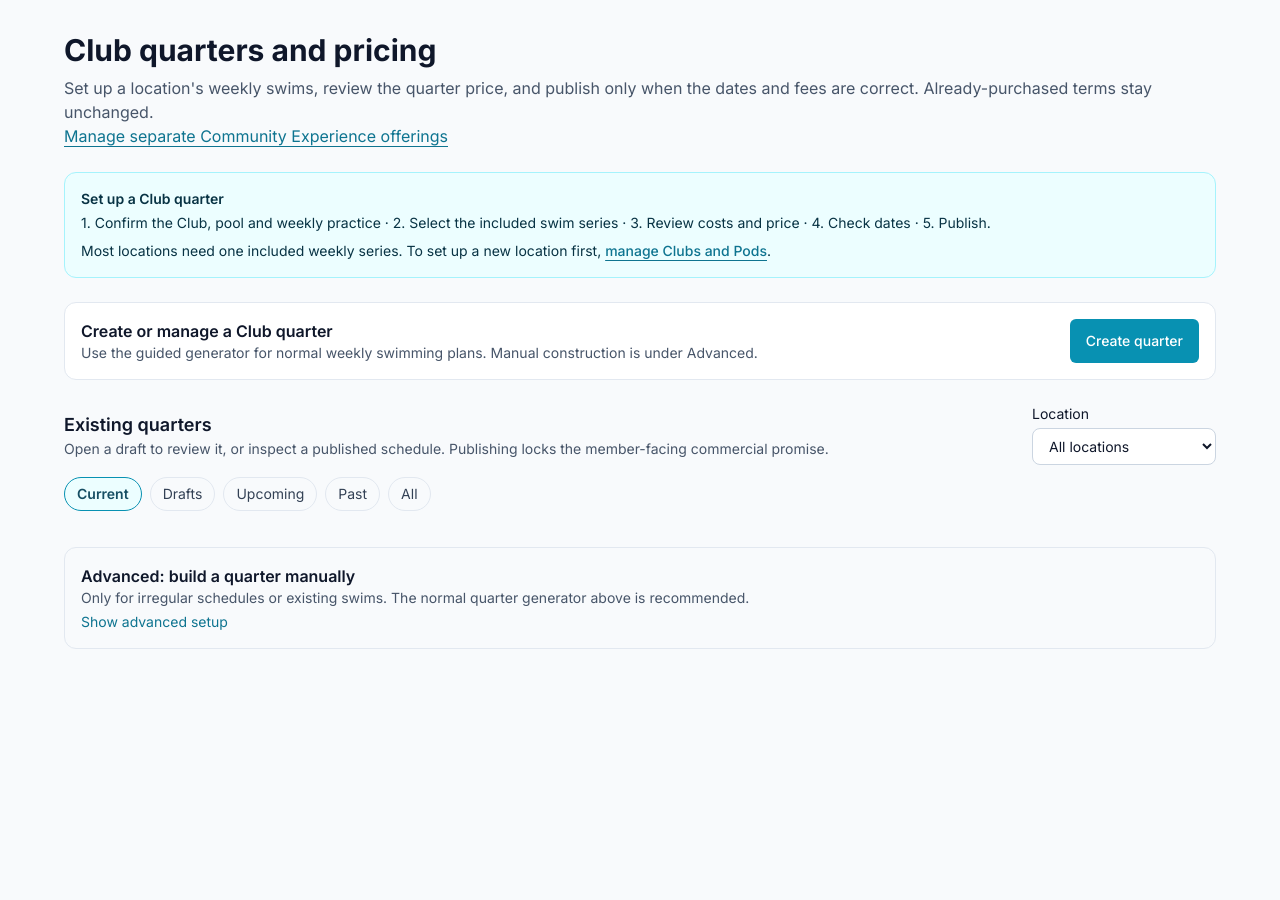
it: Admin actual-session quarter drafts › generates the next quarter as a reviewable draft, not an automatic publication
The image size is (1280, 900).
Click the button "Drafts". click: (182,494)
box: [150,477,215,511]
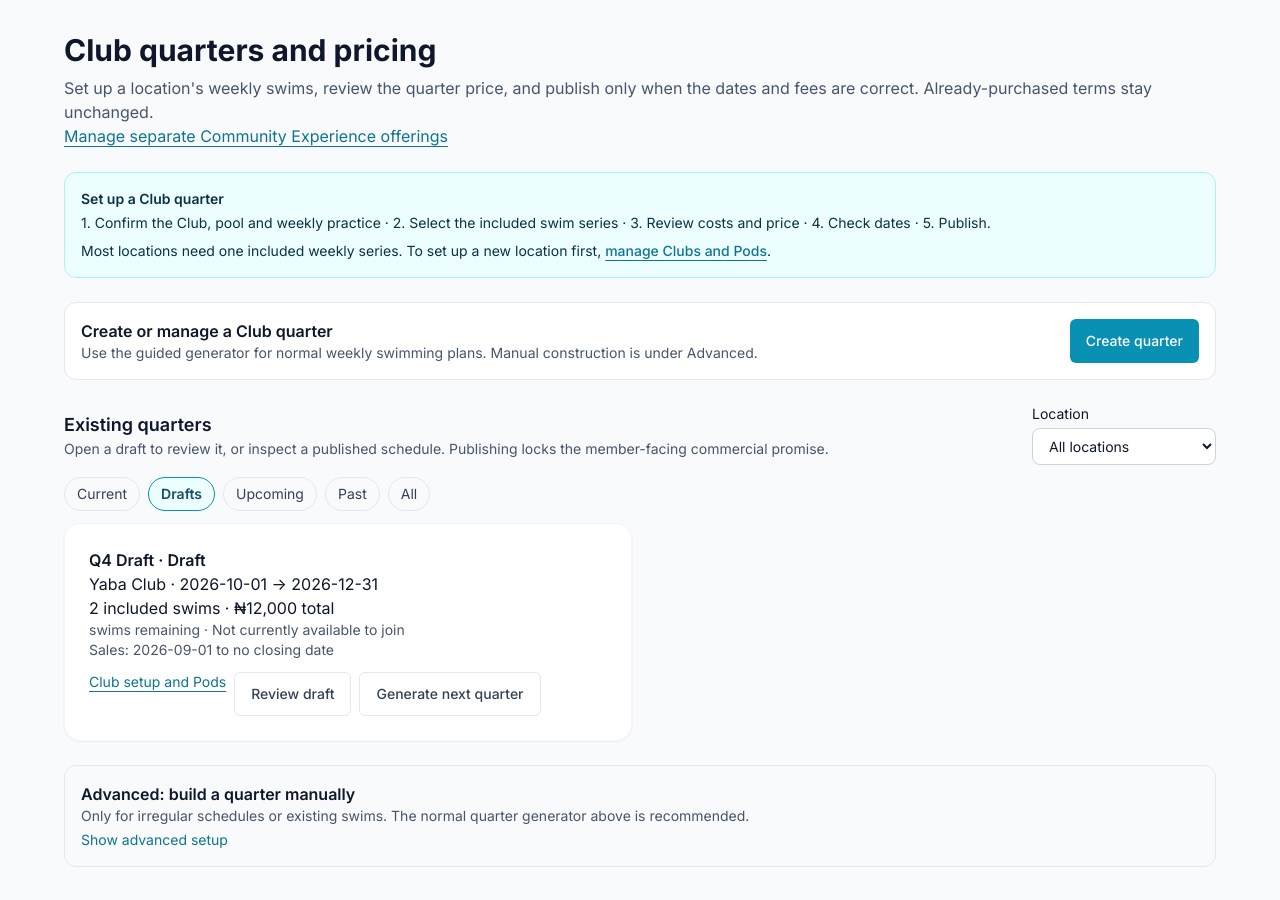
Click the button "Generate next quarter". click: (450,694)
box: [360,672,541,716]
(page scrolled)
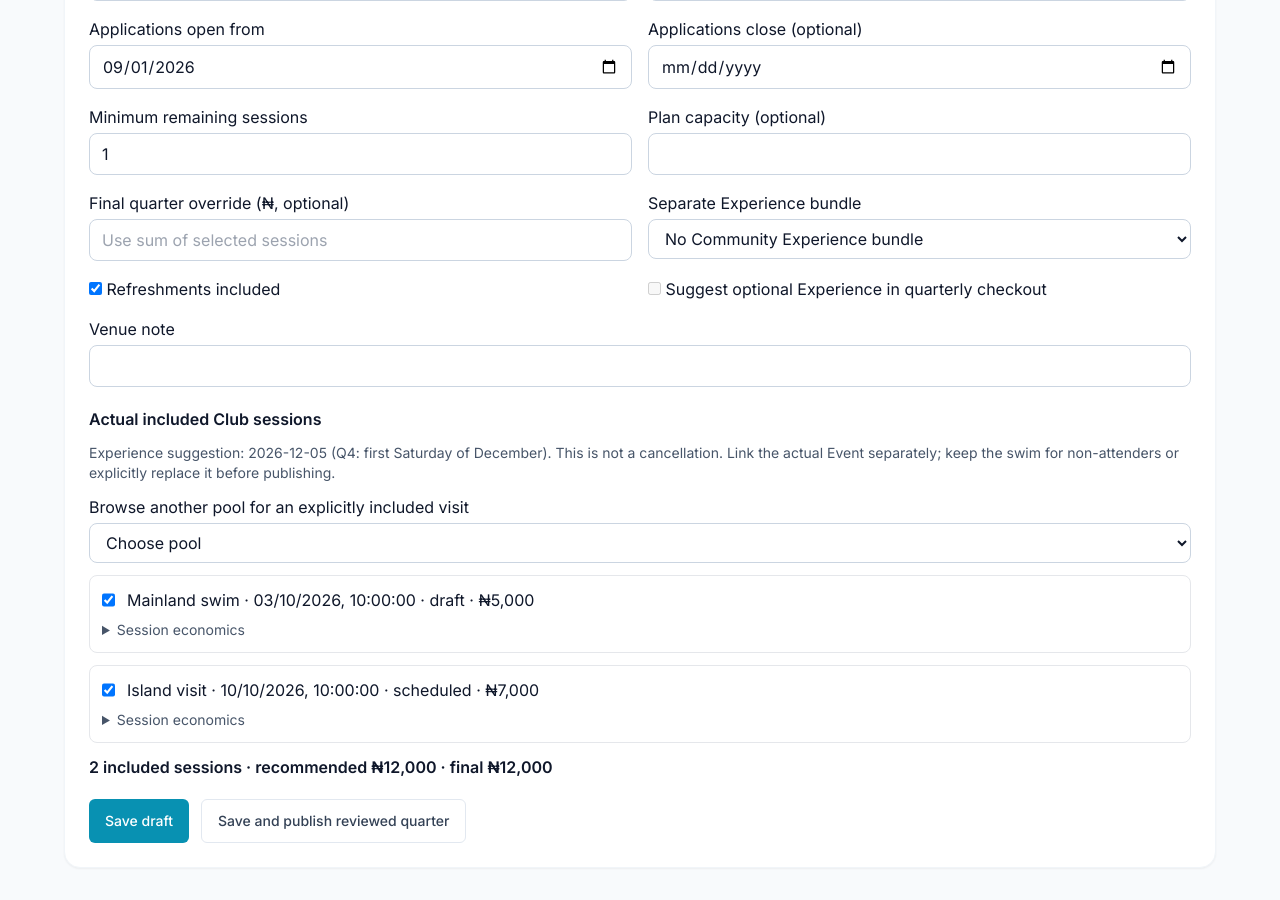
Expected: the text "2026-12-05" is shown, [248,444,327,461]
